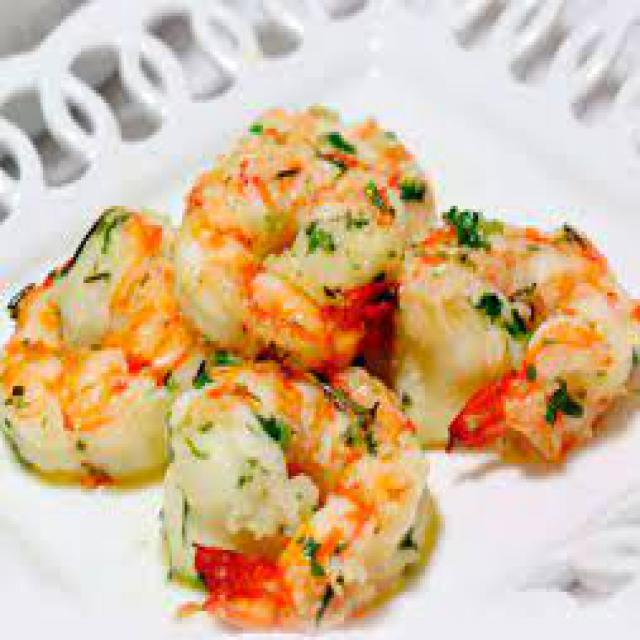camarao: (180, 105, 439, 359), (159, 363, 418, 614), (397, 208, 640, 451), (9, 208, 204, 485)
